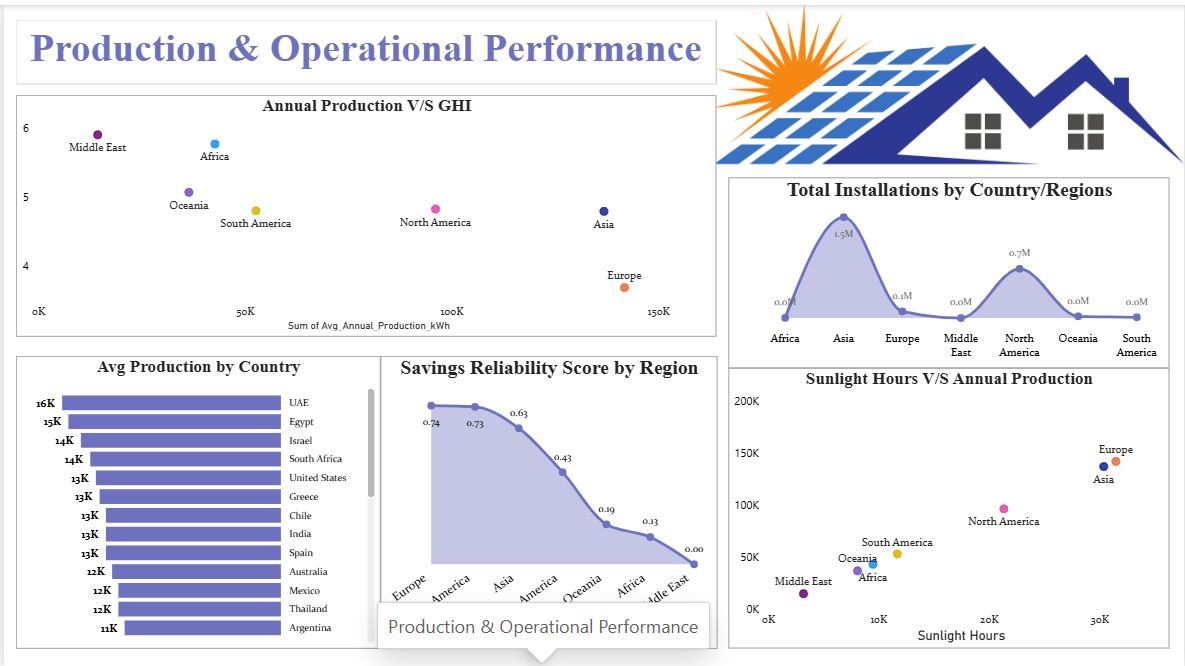

The page's visual inventory and layout, read from the dashboard file:
{"tool":"powerbi","page":{"name":"Production & Operational Performance","canvas":[1280,720],"ordinal":1},"visuals":[{"type":"textbox","box":[13,16.3,759.6,69.9],"z":0},{"type":"scatterChart","title":"Annual Production V/S GHI","fields":{"X":["Sum(solar_energy_worldwide.Avg_Annual_Production_kWh)"],"Y":["Avg(solar_energy_worldwide.GHI_kWh_per_m2)"],"Series":["solar_energy_worldwide.Region"]},"box":[13,97.6,759.6,261.9],"z":1000},{"type":"barChart","fields":{"Y":["Measures Table.Avg Production"],"Category":["solar_energy_worldwide.Country"]},"box":[13,380.6,395.3,317.2],"z":2000},{"type":"lineChart","title":"Total Installations by Country/Regions","fields":{"Y":["Measures Table.Total Installations"],"Category":["solar_energy_worldwide.Region","solar_energy_worldwide.Country"]},"box":[785.6,187.1,478.2,206.6],"z":3000},{"type":"lineChart","fields":{"Y":["Measures Table.Savings Reliability Score"],"Category":["solar_energy_worldwide.Region"]},"box":[408,381,365,317],"z":4000},{"type":"scatterChart","title":"Sunlight Hours V/S Annual Production ","fields":{"X":["Sum(solar_energy_worldwide.Annual_Sunlight_Hours)"],"Y":["Sum(solar_energy_worldwide.Avg_Annual_Production_kWh)"],"Series":["solar_energy_worldwide.Region"]},"box":[786,394,478,304],"z":5000}]}

Visuals, with their boxes in screenshot pixels (x1, y1, x2, y2), scaled from the page's 1280x720 canvas onto the 1185x666 screenshot:
textbox: <box>12,15,715,80</box>
"Annual Production V/S GHI" scatterChart: <box>12,90,715,333</box>
barChart - Measures Table.Avg Production x solar_energy_worldwide.Country: <box>12,352,378,645</box>
"Total Installations by Country/Regions" lineChart: <box>727,173,1170,364</box>
lineChart - Measures Table.Savings Reliability Score x solar_energy_worldwide.Region: <box>378,352,716,646</box>
"Sunlight Hours V/S Annual Production " scatterChart: <box>728,364,1170,646</box>
